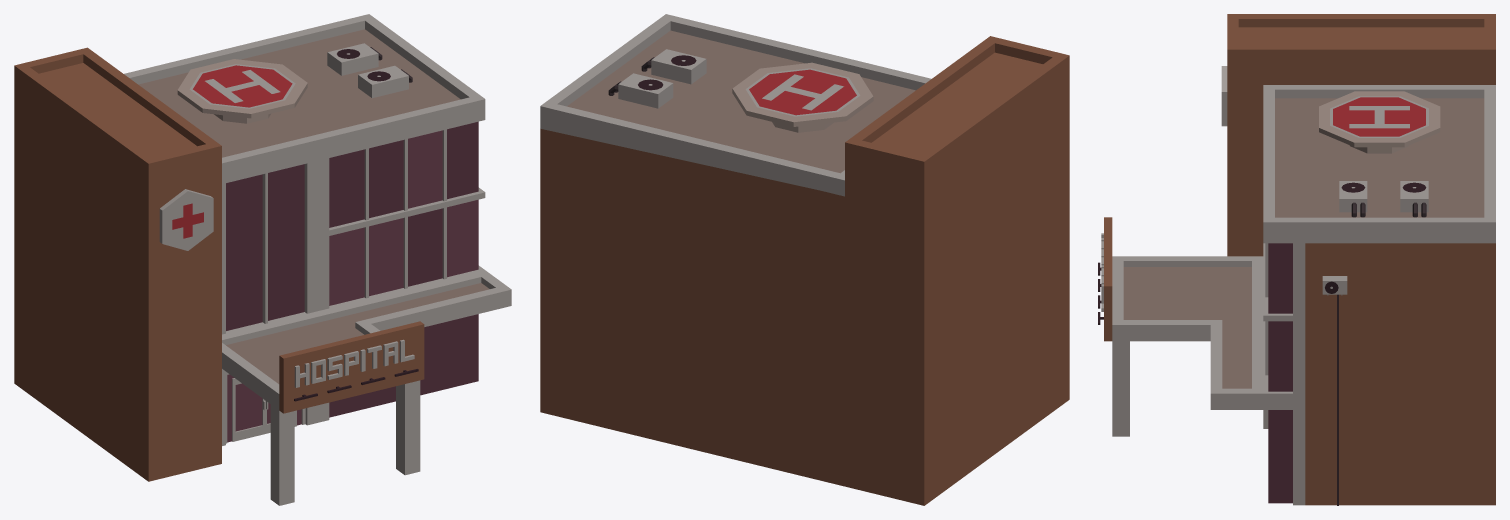
The model's file is Building_40.fbx.
3 renders of one model, left to right at view 1: azimuth 30°, elevation 25°; view 2: azimuth 150°, elevation 25°; view 3: azimuth 270°, elevation 25°, orthographic. The views are drawn at different scales.
Visible parts, largest first — view 1: Building_40; view 2: Building_40; view 3: Building_40.
Boxes of the visible parts, box(x1,y1,x2,y2) form: Building_40: box(14, 14, 511, 505); Building_40: box(540, 14, 1069, 505); Building_40: box(1098, 14, 1495, 505).
Size of the model in its own units: 17.96 by 14.95 by 16.95.
